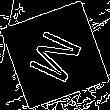M_SE: (22, 23, 88, 87)
